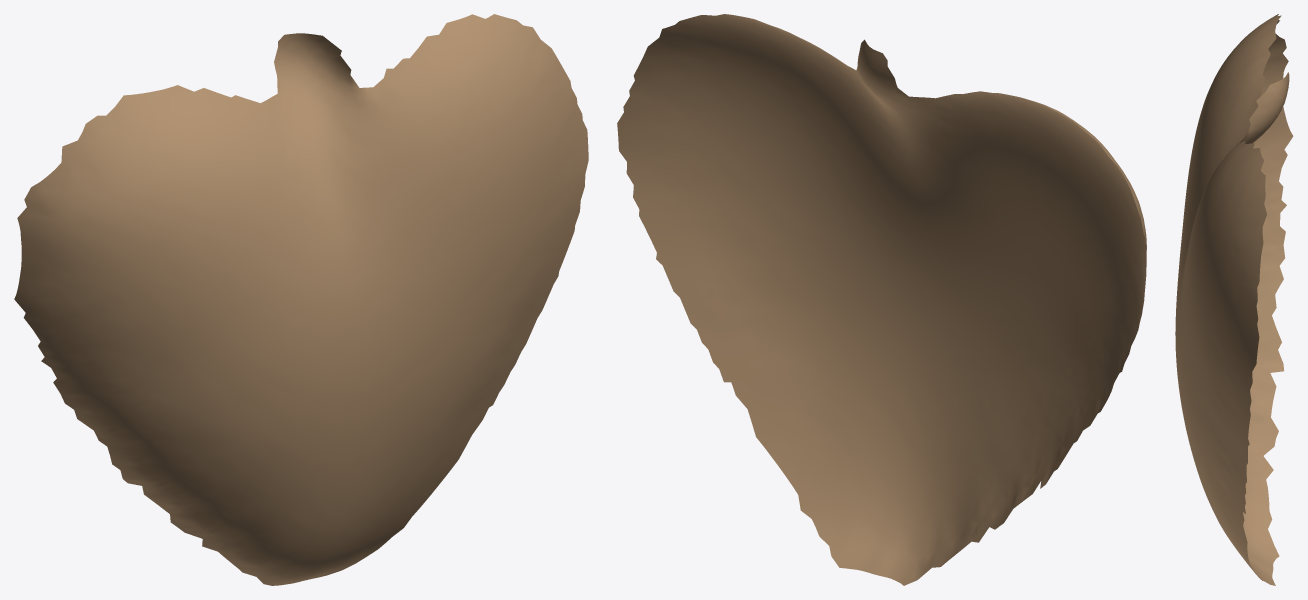
The model's file is real_heart.glb.
3 renders of one model, left to right at view 1: azimuth 30°, elevation 25°; view 2: azimuth 150°, elevation 25°; view 3: azimuth 270°, elevation 25°, orthographic. The views are drawn at different scales.
Parts seen in each view (by area): view 1: result-20251231_162513-heart; view 2: result-20251231_162513-heart; view 3: result-20251231_162513-heart.
Boxes of the visible parts, x1,y1,x2,y2 form: result-20251231_162513-heart: (14,14,588,585); result-20251231_162513-heart: (617,14,1146,585); result-20251231_162513-heart: (1175,14,1293,585).
Bounding box in the file's own units: 0.7978 × 0.7475 × 0.1625.
